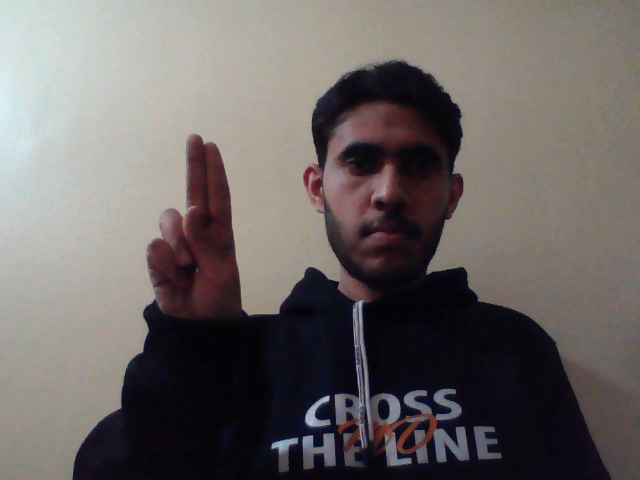U: (139, 125, 246, 337)
